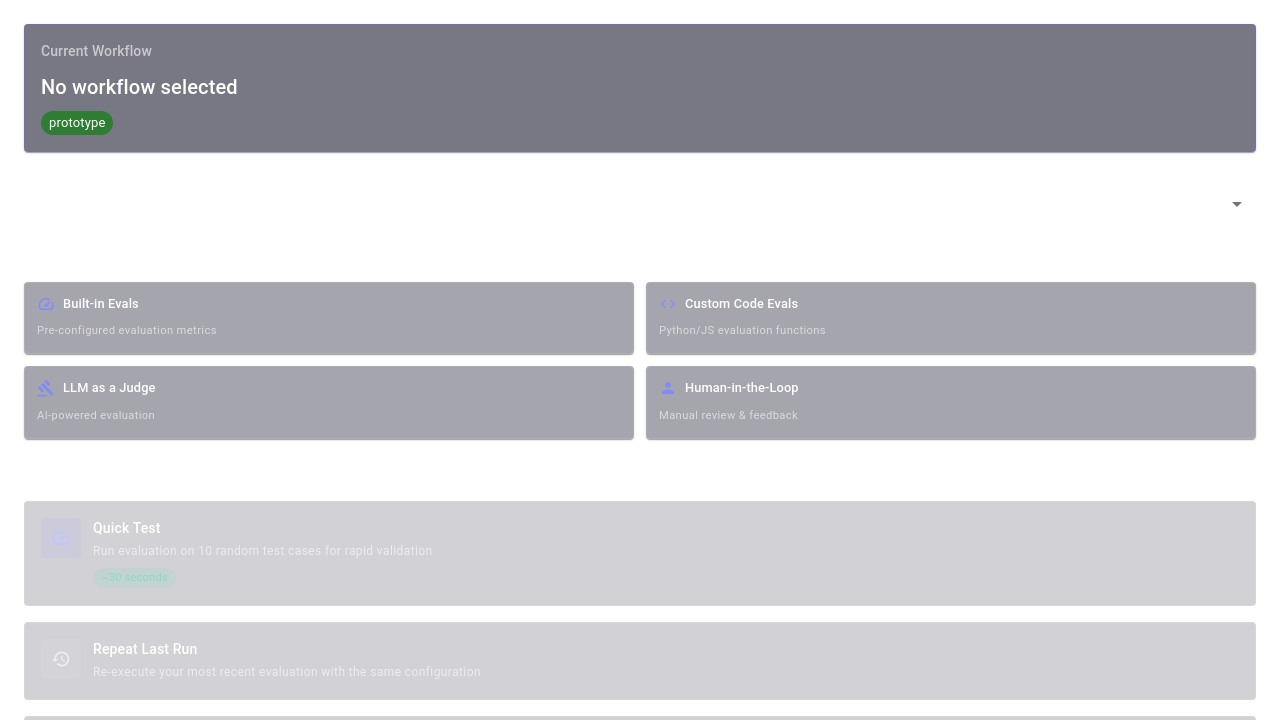
Test: RunEvaluationTab Unit Tests › Test 5: should show 3 datasets in dropdown
The width and height of the screenshot is (1280, 720).
Note: Find the Select by finding the combobox role (MUI Select renders as combobox)
Press the mouse on the dropdown: [640, 204] box [24,176,1256,232]
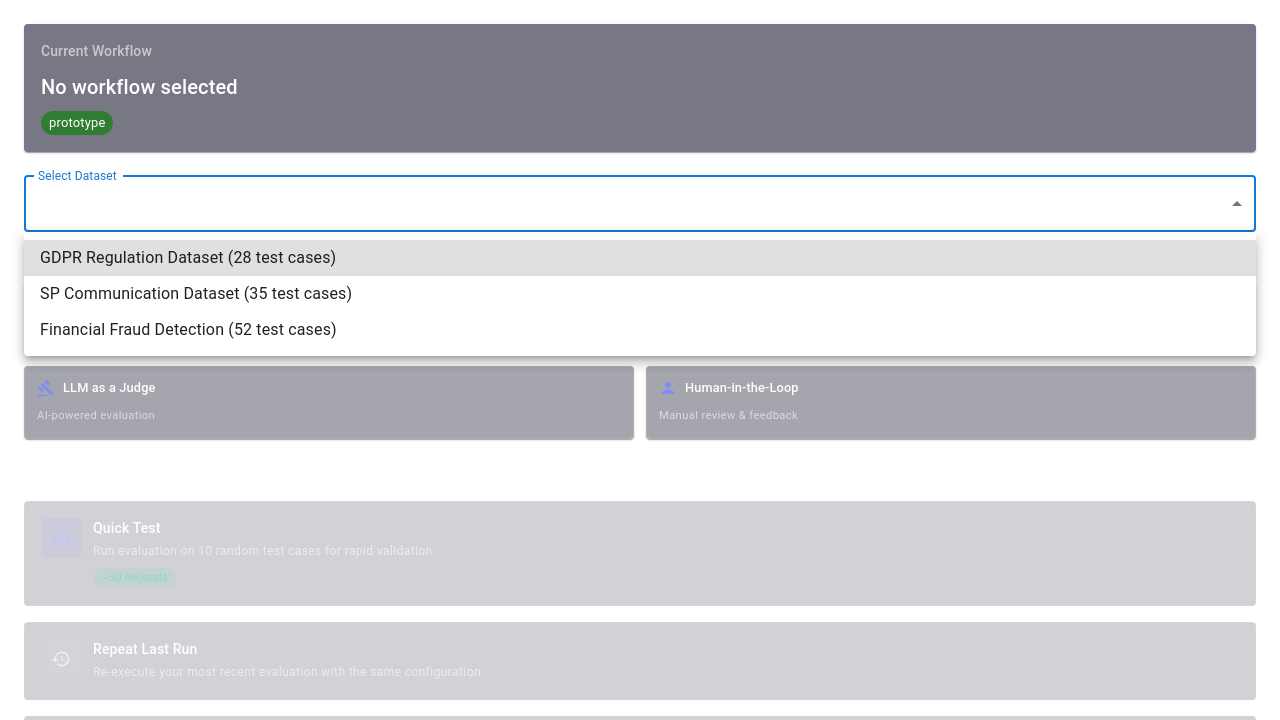
Now the option "GDPR Regulation Dataset (28 test cases)" is shown, box [24,240,1256,276]
Now the option "SP Communication Dataset (35 test cases)" is shown, box [40,284,352,303]
Now the option "Financial Fraud Detection (52 test cases)" is shown, box [40,320,337,339]
